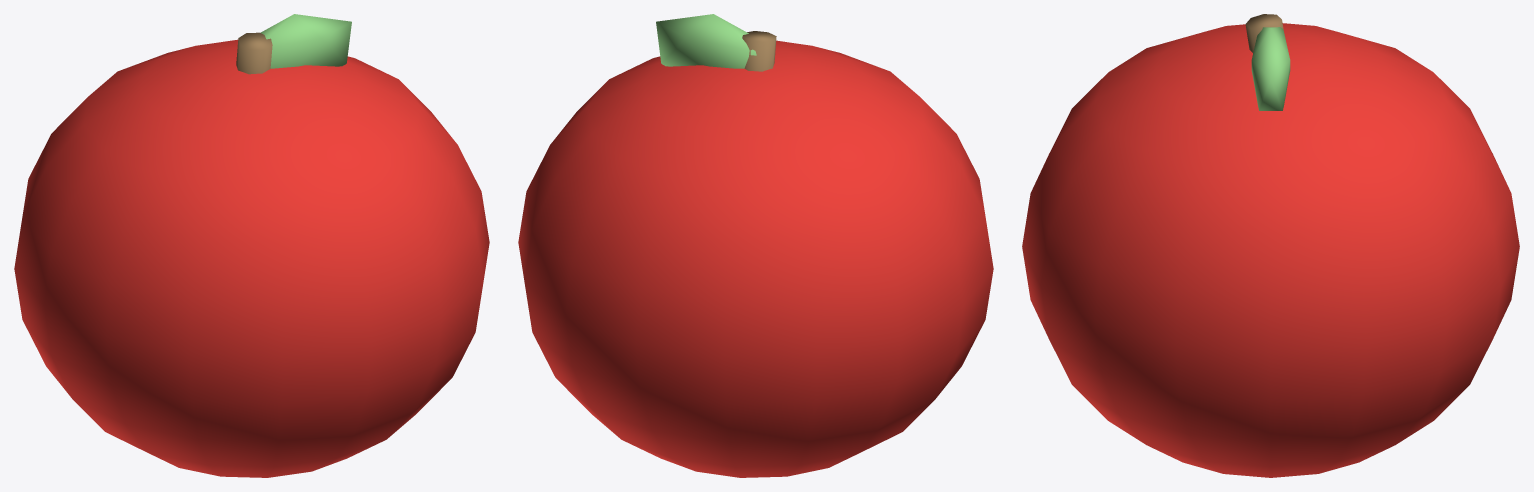
The model's file is Apple.fbx.
3 renders of one model, left to right at view 1: azimuth 30°, elevation 25°; view 2: azimuth 150°, elevation 25°; view 3: azimuth 270°, elevation 25°, orthographic. The views are drawn at different scales.
Parts seen in each view (by area): view 1: Apple; view 2: Apple; view 3: Apple.
Boxes of the visible parts, <box> form: Apple: <box>14,14,489,477</box>; Apple: <box>518,14,993,477</box>; Apple: <box>1022,14,1519,477</box>.
Bounding box in the file's own units: 48.6 × 48.1 × 48.6.
